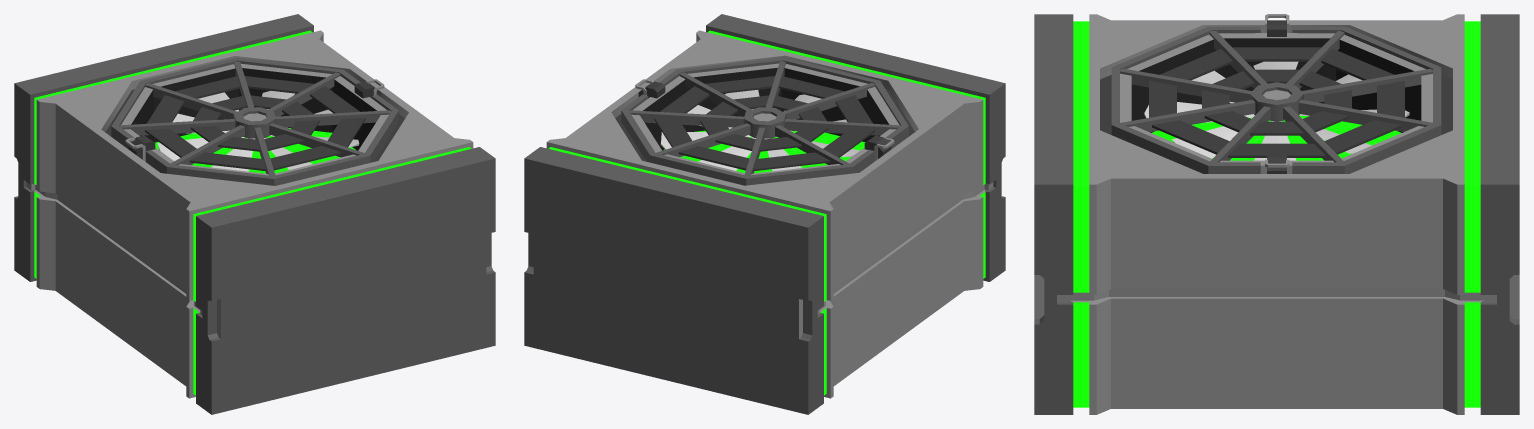
File: Vent_04.FBX
The picture shows the model from 3 angles, left to right: view 1: azimuth 30°, elevation 25°; view 2: azimuth 150°, elevation 25°; view 3: azimuth 270°, elevation 25°; orthographic projection. The views are drawn at different scales.
Visible parts, largest first — view 1: Vent_04_LOD0, Vent_04_Fan_LOD0; view 2: Vent_04_LOD0, Vent_04_Fan_LOD0; view 3: Vent_04_LOD0, Vent_04_Fan_LOD0.
Boxes of the visible parts, <box> form: Vent_04_LOD0: <box>14,14,495,414</box>; Vent_04_Fan_LOD0: <box>157,91,359,171</box>; Vent_04_LOD0: <box>524,14,1005,414</box>; Vent_04_Fan_LOD0: <box>660,90,859,171</box>; Vent_04_LOD0: <box>1034,14,1519,414</box>; Vent_04_Fan_LOD0: <box>1144,61,1409,160</box>.
Size of what is drawn, in the model's own units: 53.79 by 35.43 by 64.76.
